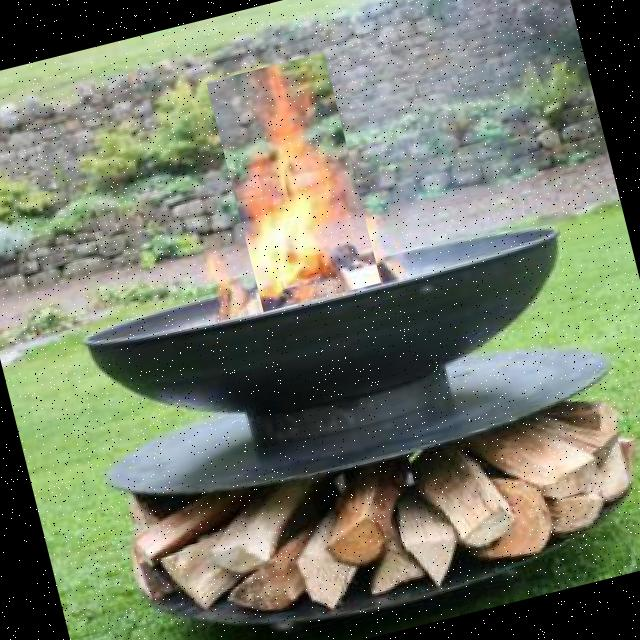fire: (206, 52, 381, 312)
